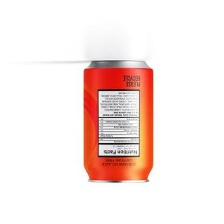can: (78, 51, 163, 187)
